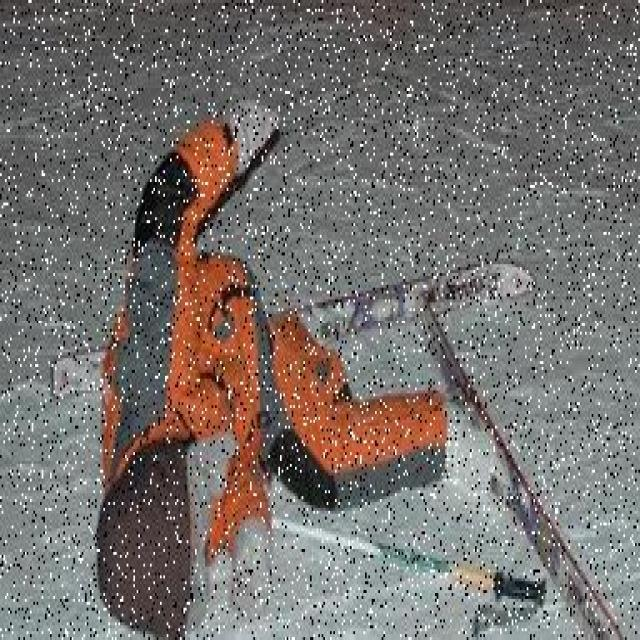fall: (104, 105, 468, 638)
